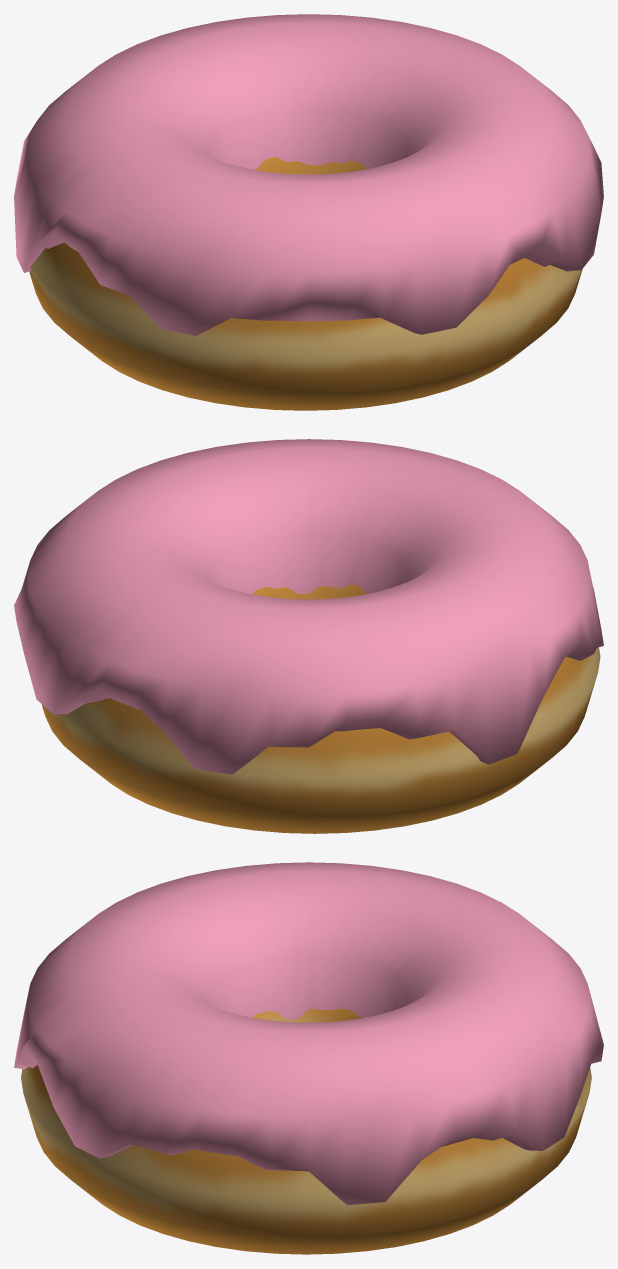
The model's file is pink_donut.fbx.
3 renders of one model, top to bottom at view 1: azimuth 30°, elevation 25°; view 2: azimuth 150°, elevation 25°; view 3: azimuth 270°, elevation 25°, orthographic.
Visible parts, largest first — view 1: Pink_Donut; view 2: Pink_Donut; view 3: Pink_Donut.
Part boxes in pixels (x1,y1,x2,y2): Pink_Donut: (14,14,603,410); Pink_Donut: (14,439,603,833); Pink_Donut: (14,862,603,1254).
Bounding box in the file's own units: 19.26 × 7.83 × 19.26.
Materials: 1 (1 with a texture image).
